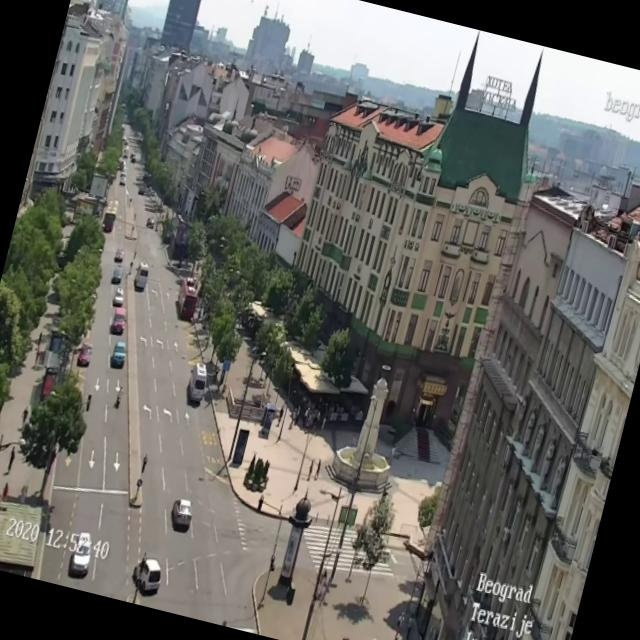bus: (172, 274, 202, 320), (98, 194, 120, 233)
car: (128, 553, 166, 598), (65, 538, 95, 580), (183, 360, 211, 404), (167, 496, 195, 530), (108, 340, 128, 370), (76, 340, 94, 368), (109, 304, 128, 330), (134, 264, 150, 290), (112, 284, 124, 302), (111, 264, 122, 280), (114, 245, 126, 258)
